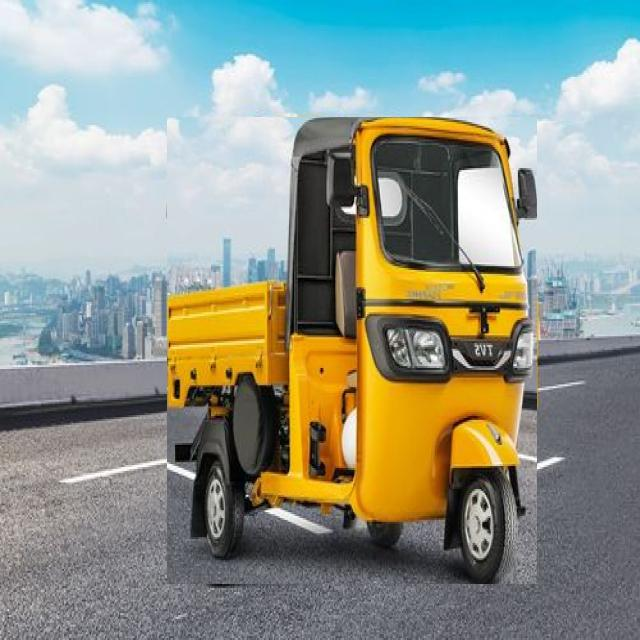autorickshaw: (168, 118, 537, 584)
